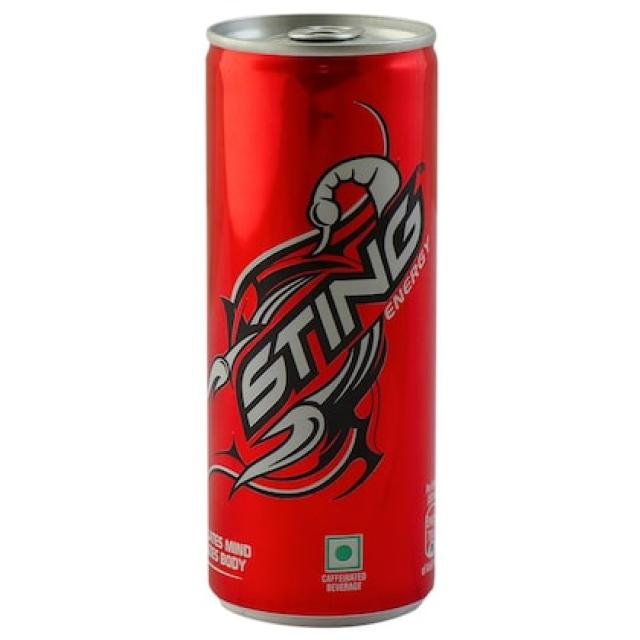metal: (181, 6, 467, 635)
